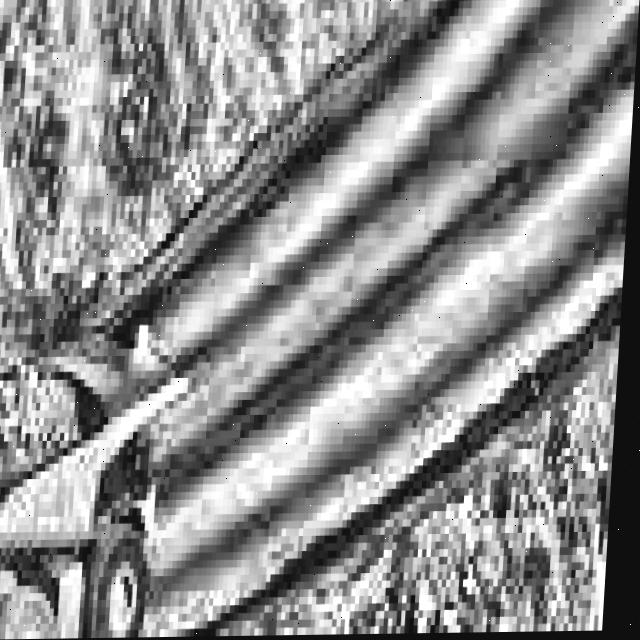dump_truck: (0, 286, 210, 640)
